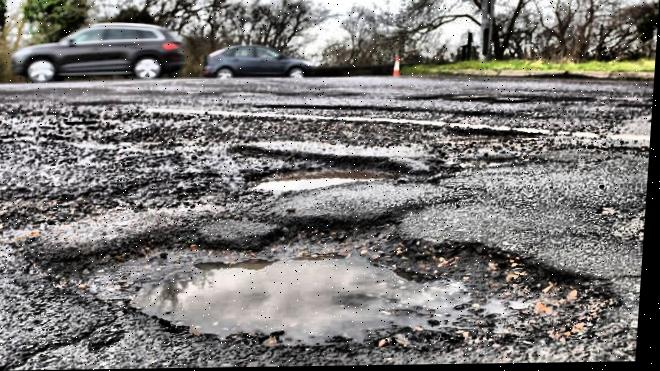pothole: (10, 207, 632, 361), (230, 151, 407, 200)
